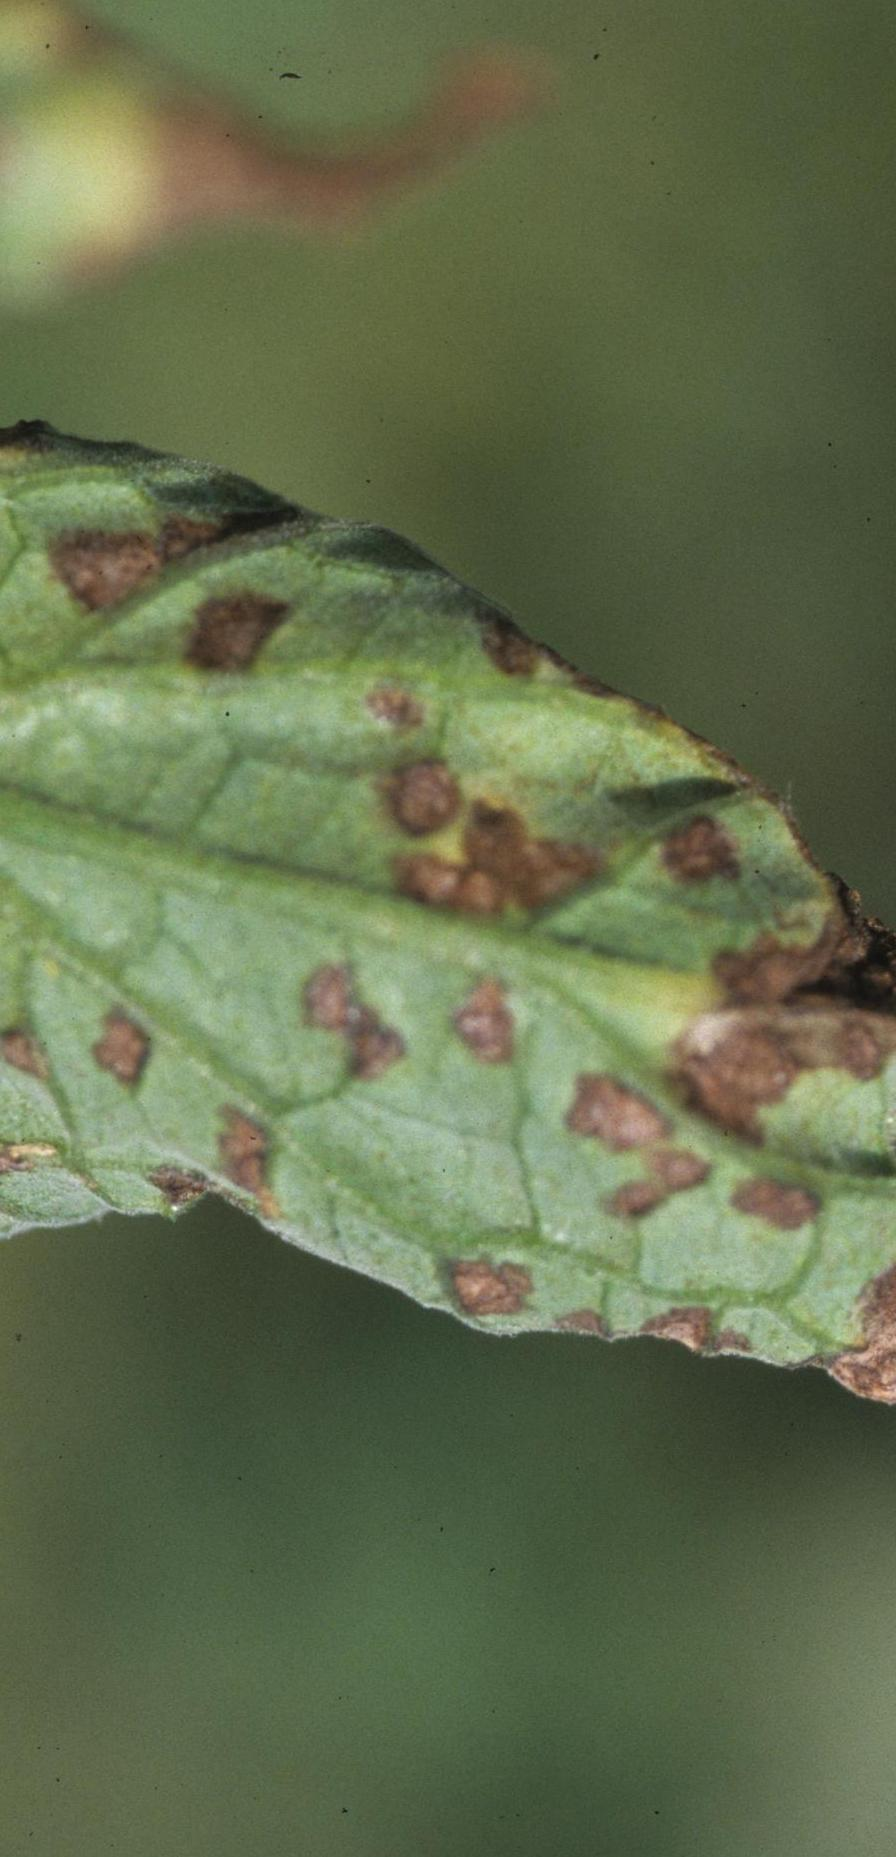Tomato leaf bacterial spot: (0, 193, 896, 1451)
